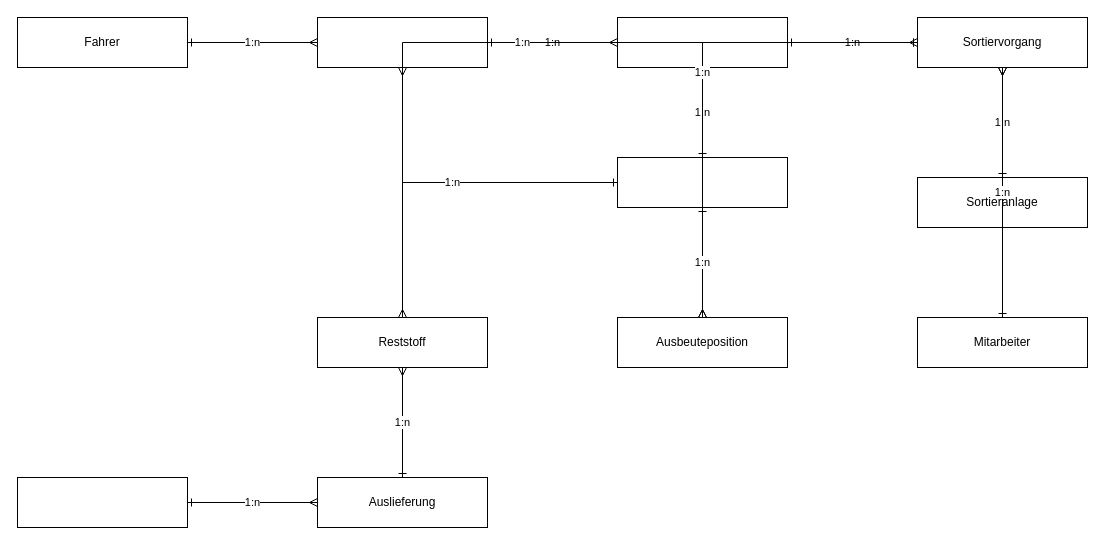
Some shapes in this 1105 by 545 pixel diagram are drawn without their labels. Each missing label, with the box of its shape:
Abnehmer: (16, 476, 188, 528)
Charge: (616, 16, 788, 68)
Stoffgruppe: (616, 156, 788, 208)
Werksanlieferung: (316, 16, 488, 68)
